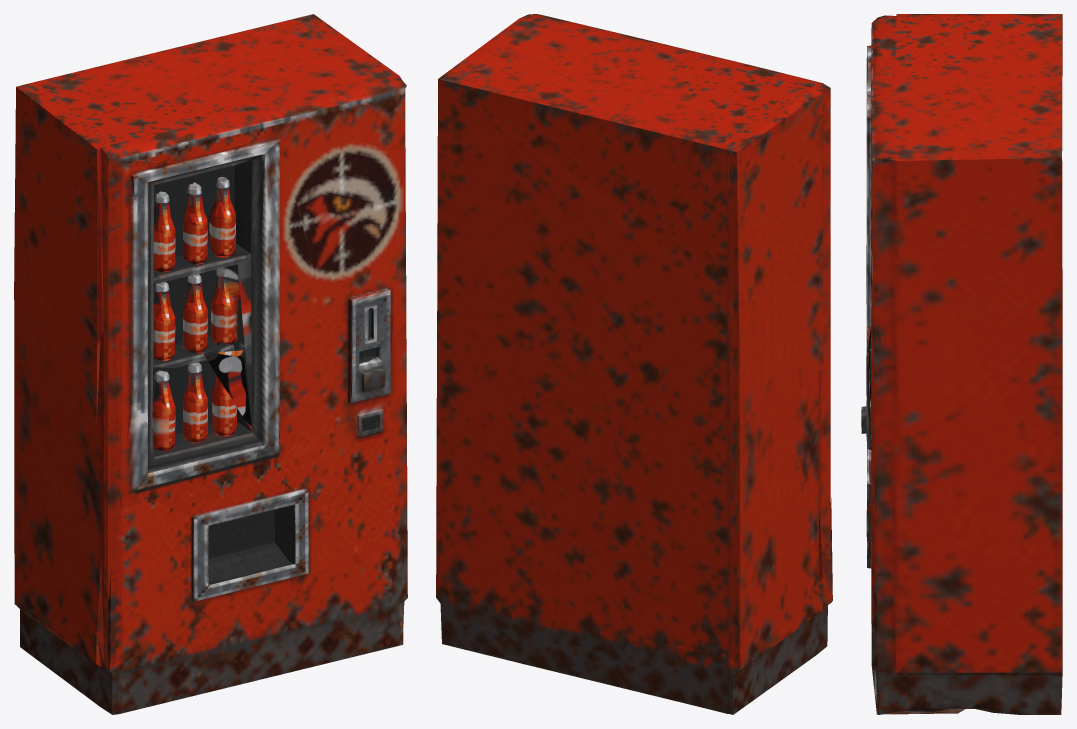
The model's file is Meshy_AI_model.glb.
3 renders of one model, left to right at view 1: azimuth 30°, elevation 25°; view 2: azimuth 150°, elevation 25°; view 3: azimuth 270°, elevation 25°, orthographic.
Parts seen in each view (by area): view 1: output_unwrapped; view 2: output_unwrapped; view 3: output_unwrapped.
Boxes of the visible parts, <box> form: output_unwrapped: <box>14,14,407,714</box>; output_unwrapped: <box>436,14,832,714</box>; output_unwrapped: <box>861,14,1062,714</box>.
Bounding box in the file's own units: 1.07 × 1.9 × 0.6204.
Materials: 1 (1 with a texture image).
